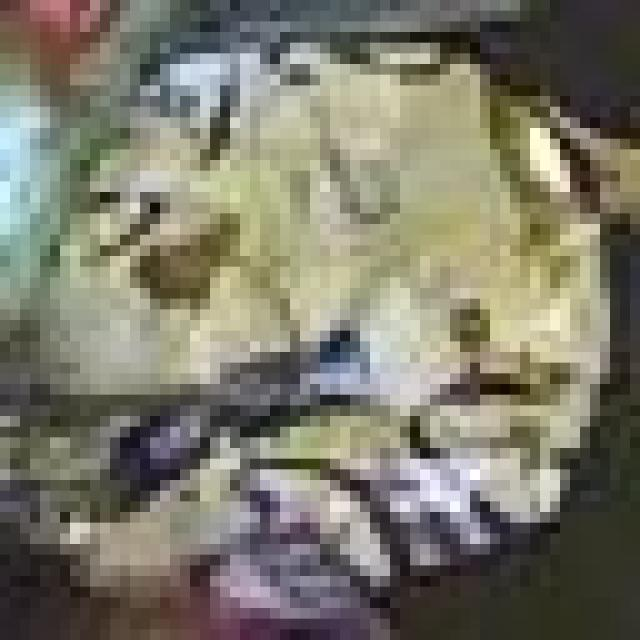litter: (8, 15, 631, 625)
